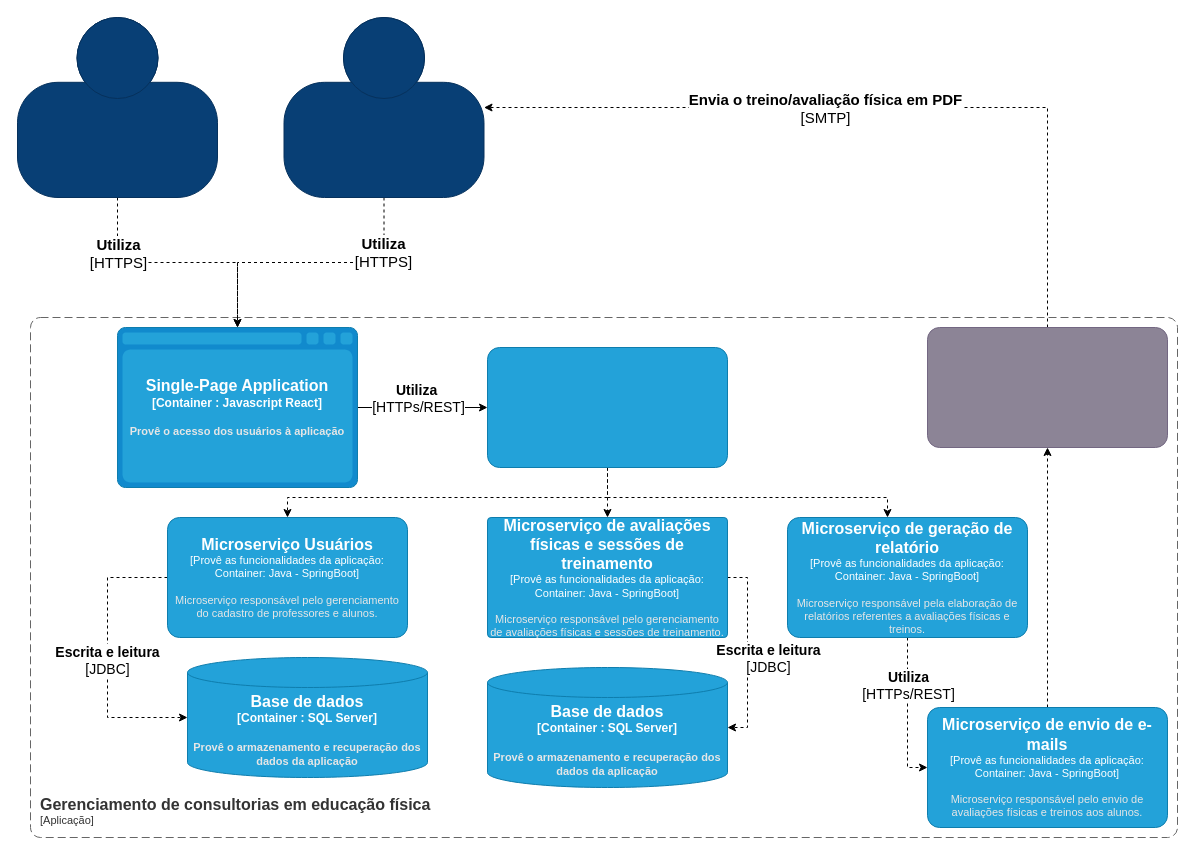
Image size: 1195x855. Some labels were removed from this diagram. The centre of each missing label's shape, as x and y in pixels:
Aluno [Person] Aluno cadastrado por um professor: point (383, 107)
API Gateway [API Gateway: Azure API Management] API Gateway da Plataforma: point (607, 407)
Personal Trainer [Person] Personal Trainer cadastrado no sistema: point (117, 107)
Sistema de e-mail [Software System] Serviço de e-mail Microsoft: point (1047, 387)
